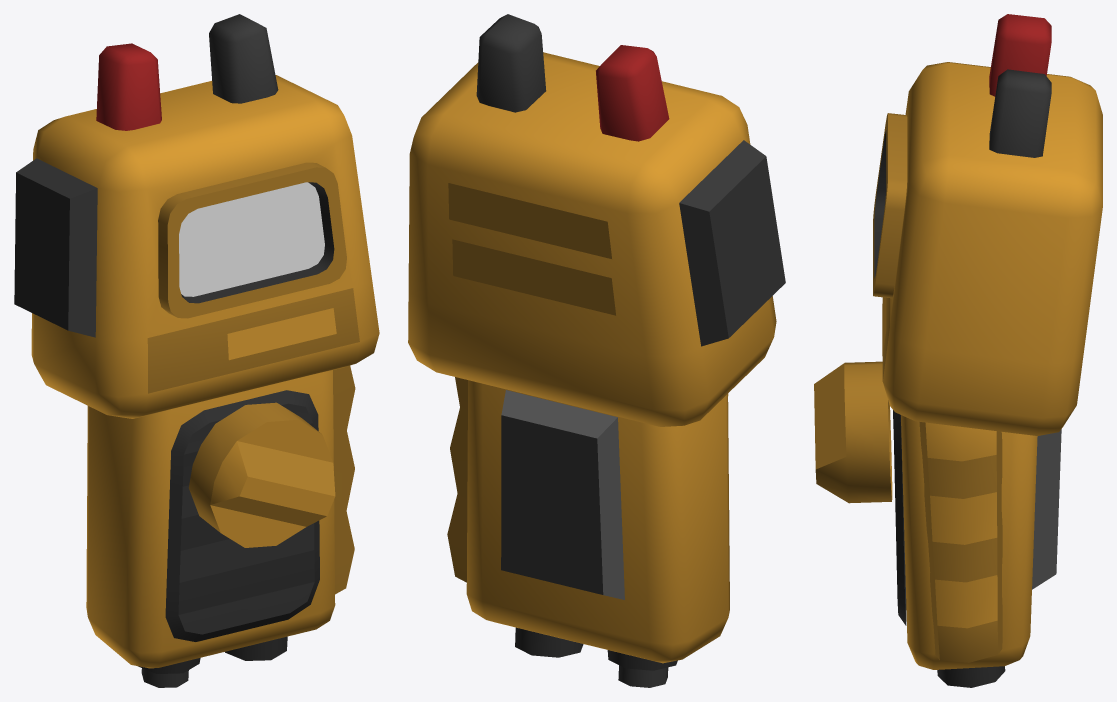
The model's file is Multitool.fbx.
3 views of the same model, side by side, from view 1: azimuth 30°, elevation 25°; view 2: azimuth 150°, elevation 25°; view 3: azimuth 270°, elevation 25° (orthographic). The views are drawn at different scales.
Parts seen in each view (by area): view 1: MultitoolV3; view 2: MultitoolV3; view 3: MultitoolV3.
Boxes of the visible parts, box(x1,y1,x2,y2) form: MultitoolV3: box(14, 14, 379, 687); MultitoolV3: box(408, 14, 785, 687); MultitoolV3: box(814, 14, 1102, 687).
Size of the model in its own units: 0.2375 by 0.4638 by 0.1967.
